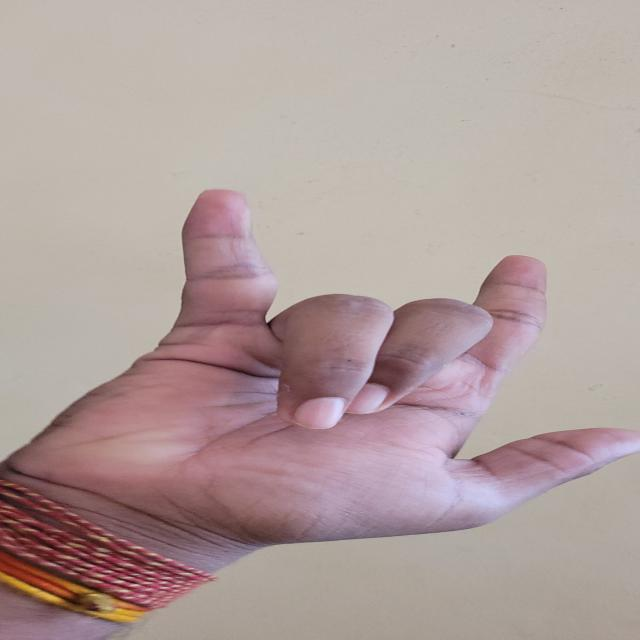i like you: (1, 174, 639, 588)
